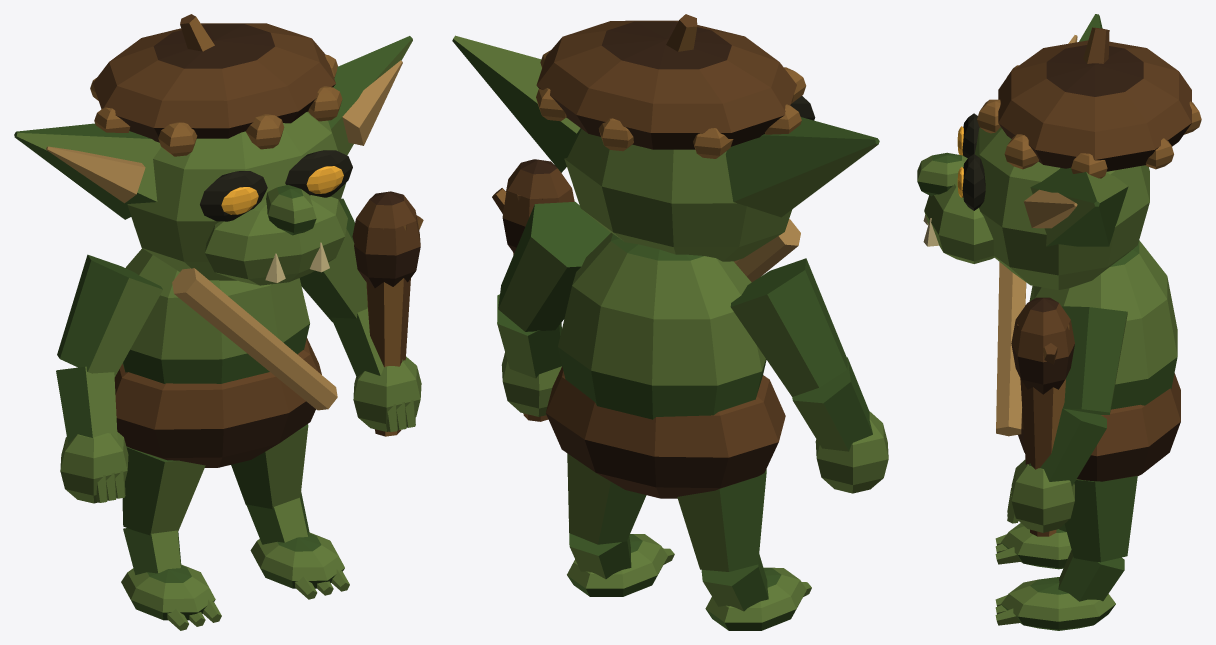
File: Bramblekin.fbx
3 renders of one model, left to right at view 1: azimuth 30°, elevation 25°; view 2: azimuth 150°, elevation 25°; view 3: azimuth 270°, elevation 25°, orthographic. The views are drawn at different scales.
Visible parts, largest first — view 1: Head, Body, Arm.R, Arm.L, Leg.L, Foot.L, Foot.R, Leg.R, Shin.L, Shin.R; view 2: Head, Body, Arm.R, Arm.L, Leg.L, Leg.R, Foot.L, Foot.R, Shin.L, Shin.R; view 3: Head, Body, Arm.R, Leg.R, Foot.R, Foot.L, Shin.R.
Part boxes in pixels (x1,y1,x2,y2): Head: [14, 14, 412, 285]; Body: [114, 248, 337, 467]; Arm.R: [299, 191, 423, 436]; Arm.L: [56, 254, 162, 503]; Leg.L: [122, 446, 205, 535]; Foot.L: [121, 564, 221, 630]; Foot.R: [250, 532, 349, 599]; Leg.R: [231, 424, 308, 509]; Shin.L: [123, 528, 181, 574]; Shin.R: [246, 491, 309, 544]; Head: [452, 14, 879, 261]; Body: [546, 219, 800, 498]; Arm.R: [492, 159, 610, 421]; Arm.L: [730, 258, 888, 493]; Leg.L: [677, 469, 766, 571]; Leg.R: [567, 453, 646, 544]; Foot.L: [705, 567, 811, 630]; Foot.R: [567, 534, 674, 596]; Shin.L: [701, 554, 768, 611]; Shin.R: [569, 533, 631, 579]; Head: [917, 14, 1201, 289]; Body: [996, 240, 1180, 481]; Arm.R: [1007, 297, 1127, 536]; Leg.R: [1064, 476, 1137, 562]; Foot.R: [995, 577, 1115, 630]; Foot.L: [995, 523, 1071, 569]; Shin.R: [1058, 550, 1124, 601].
Size of the model in its own units: 117 by 160 by 74.05.
